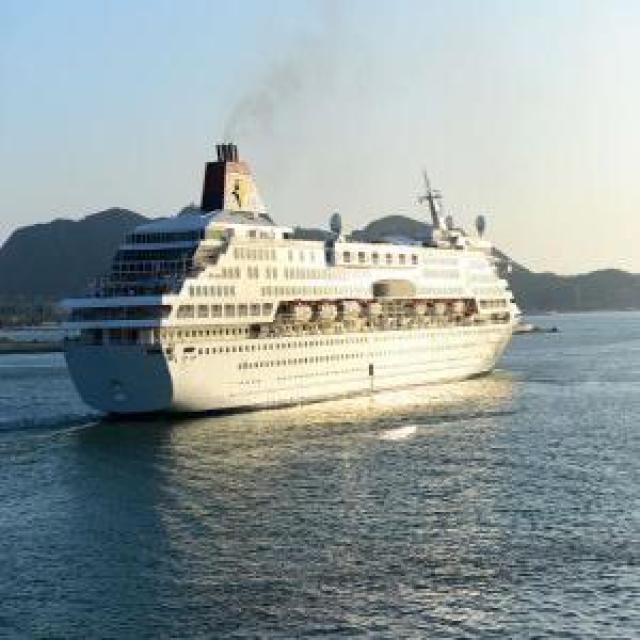passenger ship: (52, 138, 520, 408)
